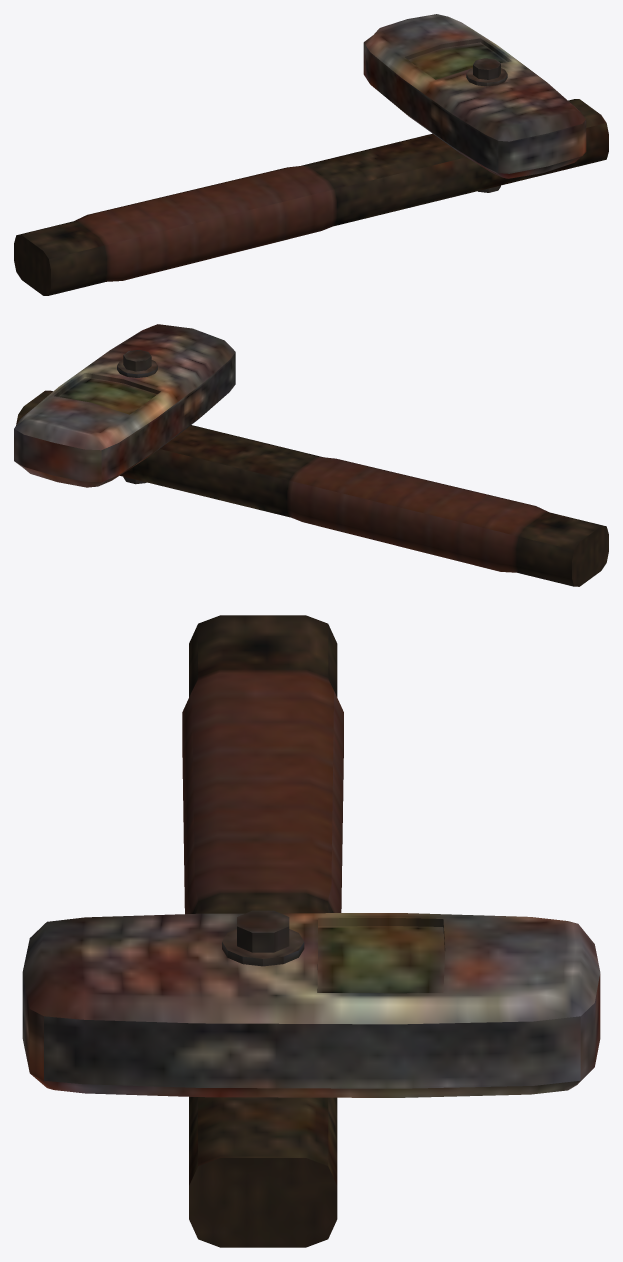
Rendered from cell_phone_hammer_mx_1.obj.
3 renders of one model, top to bottom at view 1: azimuth 30°, elevation 25°; view 2: azimuth 150°, elevation 25°; view 3: azimuth 270°, elevation 25°, orthographic. The views are drawn at different scales.
Visible parts, largest first — view 1: cell_phone_hammer_mx_1; view 2: cell_phone_hammer_mx_1; view 3: cell_phone_hammer_mx_1.
Part boxes in pixels (left/top/right/bottom): cell_phone_hammer_mx_1: left=14, top=14, right=608, bottom=295; cell_phone_hammer_mx_1: left=14, top=324, right=608, bottom=586; cell_phone_hammer_mx_1: left=22, top=615, right=600, bottom=1247.
Bounding box in the file's own units: 0.468 × 0.0986 × 0.2106.
